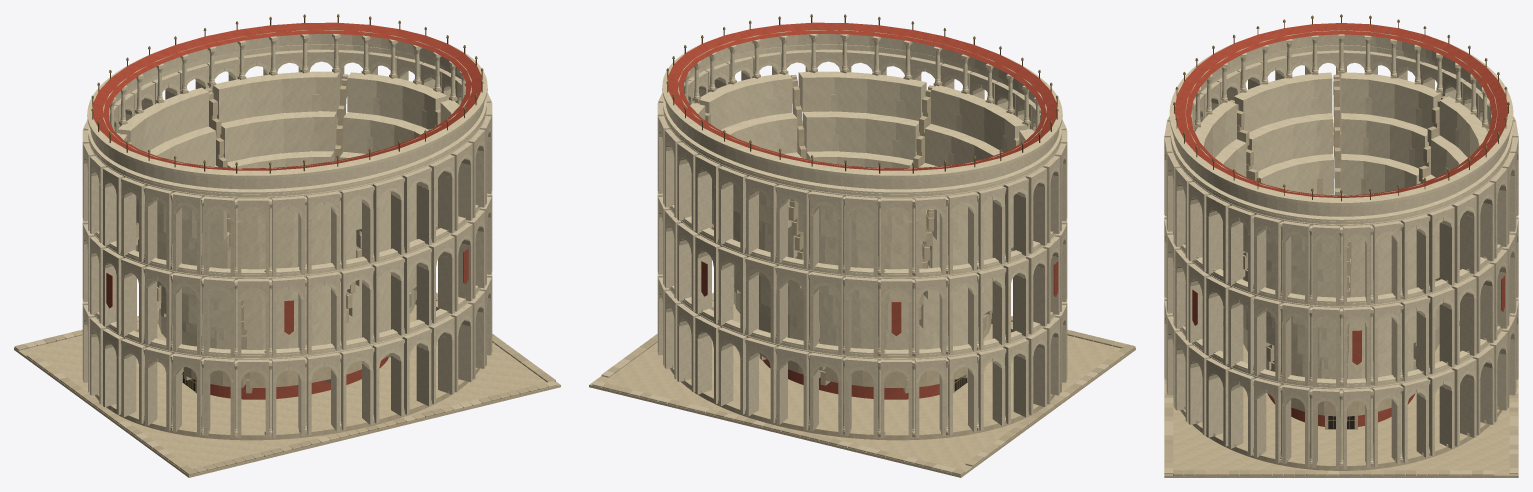
File: amphitheater.glb
The picture shows the model from 3 angles, left to right: view 1: azimuth 30°, elevation 25°; view 2: azimuth 150°, elevation 25°; view 3: azimuth 270°, elevation 25°; orthographic projection.
Parts seen in each view (by area): view 1: Limewash, Limewash.001, Limestone_trim.002, Limestone_trim, Limestone_trim.001, Travertine, Limewash.002, Travertine.001, Ochre_canvas, Travertine.002, Pompeian_red, Paving_1 (+6 smaller); view 2: Limewash, Limewash.001, Limestone_trim.002, Limestone_trim, Limestone_trim.001, Travertine, Limewash.002, Travertine.001, Ochre_canvas, Travertine.002, Pompeian_red, Paving_3 (+6 smaller); view 3: Limewash, Limewash.001, Limestone_trim.002, Limestone_trim, Travertine.001, Limestone_trim.001, Limewash.002, Ochre_canvas, Travertine, Travertine.002, Pompeian_red, Paving_3 (+7 smaller).
Boxes of the visible parts, x1,y1,x2,y2 form: Limewash: (82, 49, 492, 437); Limewash.001: (82, 34, 492, 438); Limestone_trim.002: (84, 30, 491, 431); Limestone_trim: (83, 30, 491, 433); Limestone_trim.001: (83, 30, 491, 431); Travertine: (14, 69, 560, 477); Limewash.002: (82, 34, 492, 380); Travertine.001: (14, 69, 560, 477); Ochre_canvas: (92, 22, 482, 170); Travertine.002: (98, 85, 463, 434); Pompeian_red: (106, 153, 468, 399); Paving_1: (43, 293, 555, 475); Limewash: (657, 49, 1067, 437); Limewash.001: (657, 34, 1067, 438); Limestone_trim.002: (658, 30, 1066, 431); Limestone_trim: (658, 30, 1066, 433); Limestone_trim.001: (658, 30, 1066, 431); Travertine: (589, 69, 1135, 477); Limewash.002: (657, 34, 1067, 378); Travertine.001: (589, 69, 1135, 477); Ochre_canvas: (667, 22, 1057, 170); Travertine.002: (673, 86, 1051, 435); Pompeian_red: (701, 261, 1058, 399); Paving_3: (601, 294, 1125, 475); Limewash: (1164, 50, 1518, 468); Limewash.001: (1164, 36, 1518, 469); Limestone_trim.002: (1164, 30, 1518, 456); Limestone_trim: (1164, 30, 1518, 464); Travertine.001: (1164, 70, 1518, 477); Limestone_trim.001: (1164, 30, 1518, 462); Limewash.002: (1164, 34, 1518, 407); Ochre_canvas: (1174, 23, 1508, 197); Travertine: (1164, 71, 1518, 477); Travertine.002: (1184, 82, 1497, 465); Pompeian_red: (1192, 154, 1504, 426); Paving_3: (1165, 386, 1517, 475).
Size of the model in its own units: 27.56 by 19.82 by 22.4.
13 materials, 6 textured.
